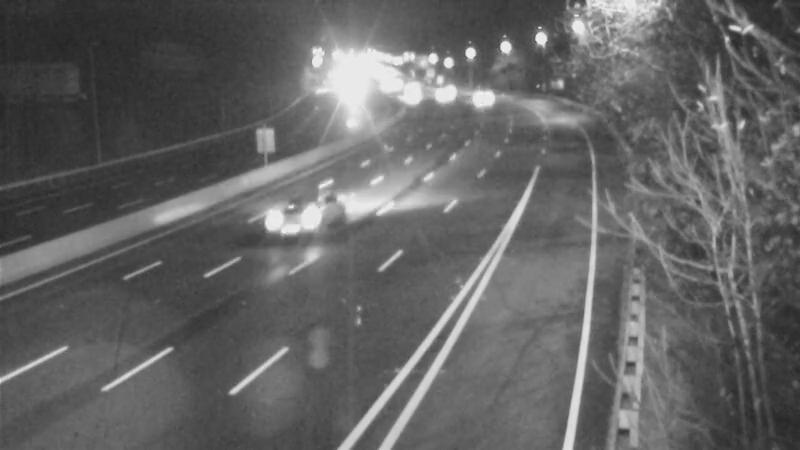vehicle: (260, 177, 340, 257), (391, 63, 441, 113), (416, 69, 466, 119), (388, 75, 438, 125), (455, 74, 505, 124)
